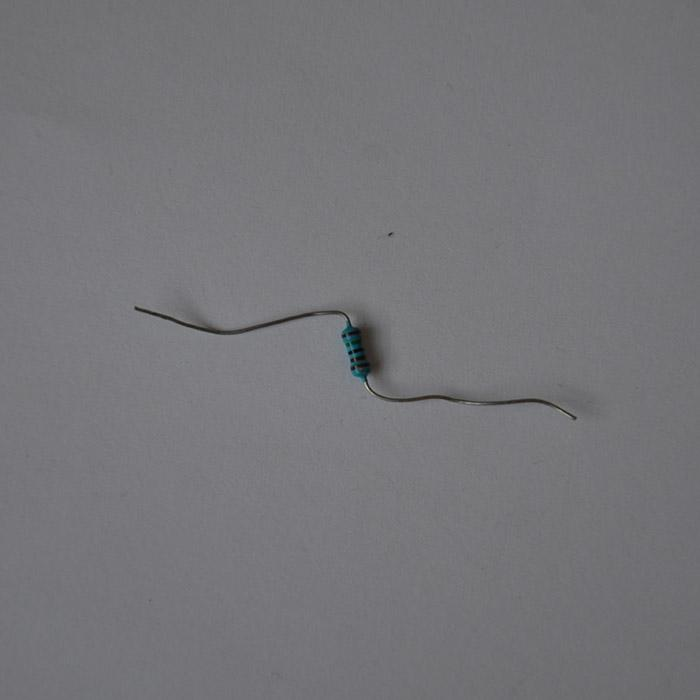resistor: (339, 320, 372, 382)
